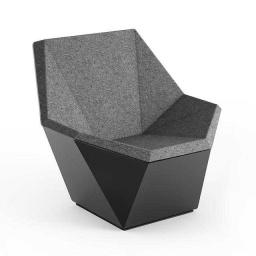Chair: (32, 28, 220, 230)
